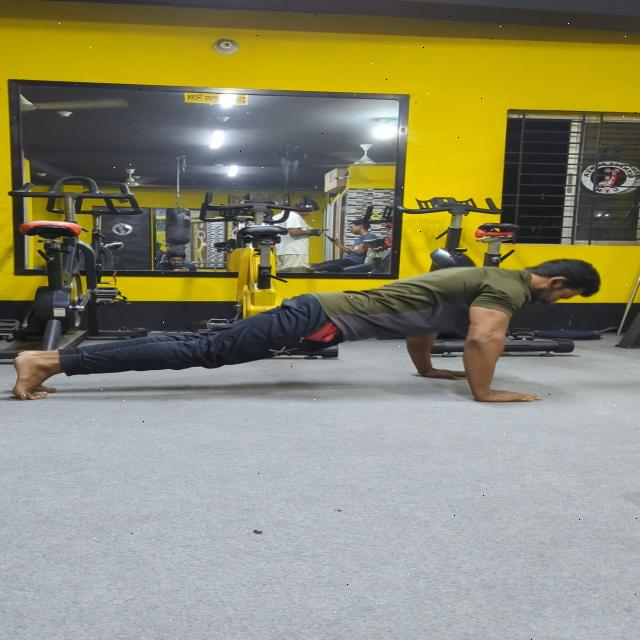Normal_PushUps: (0, 235, 640, 441)
